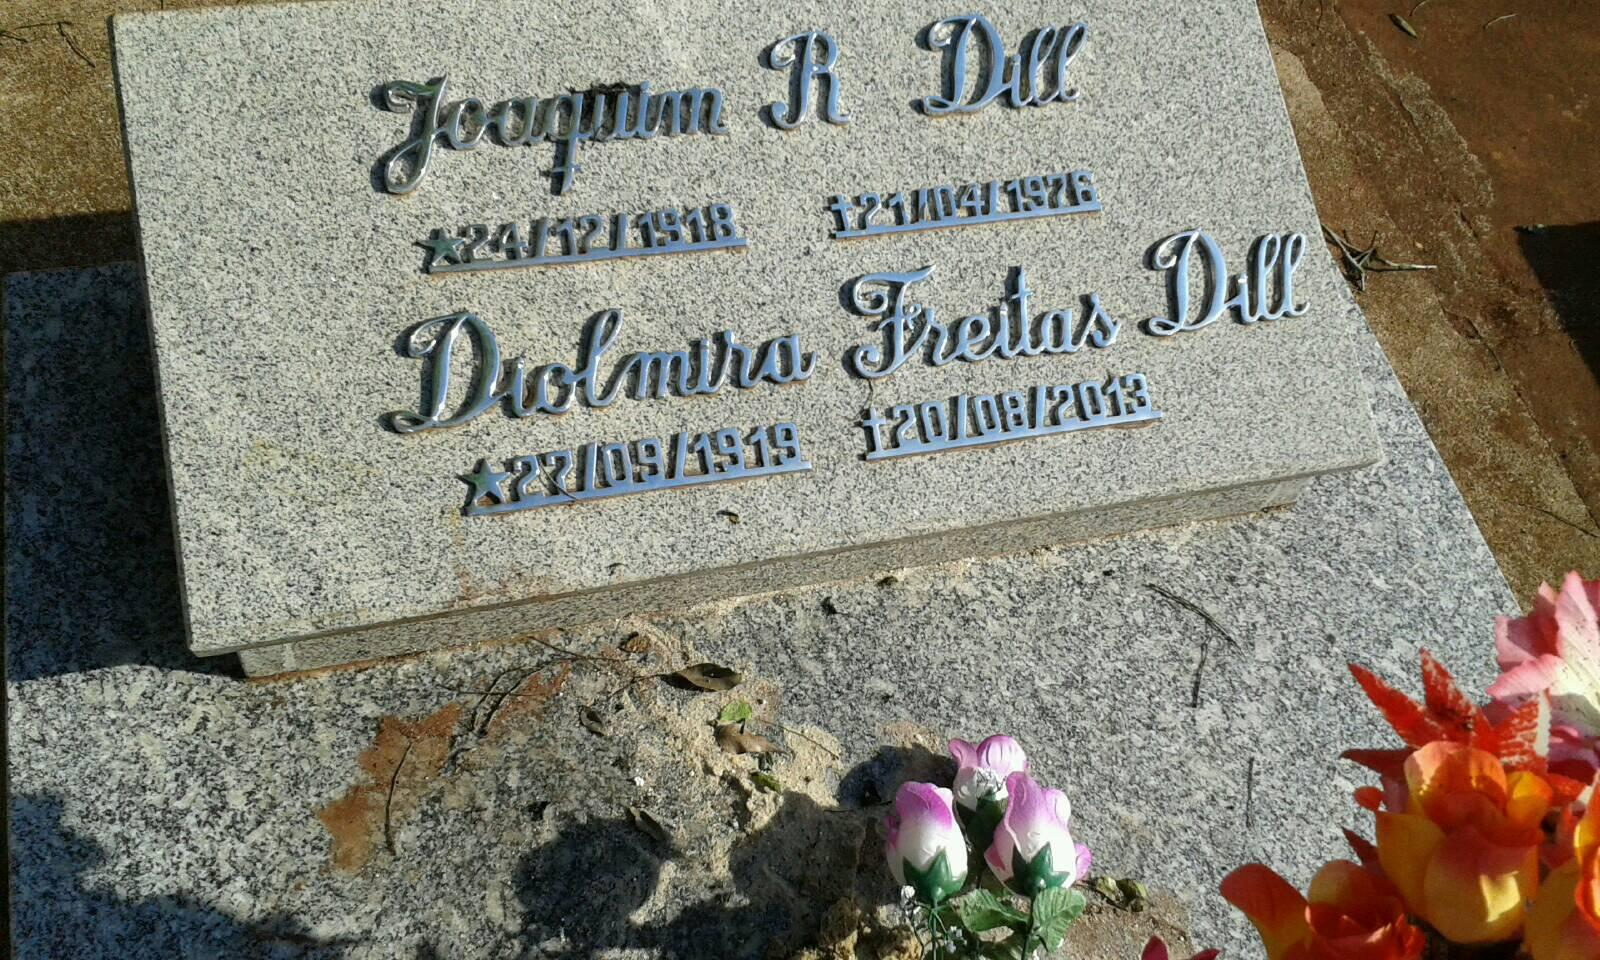slant: (83, 5, 1398, 661)
